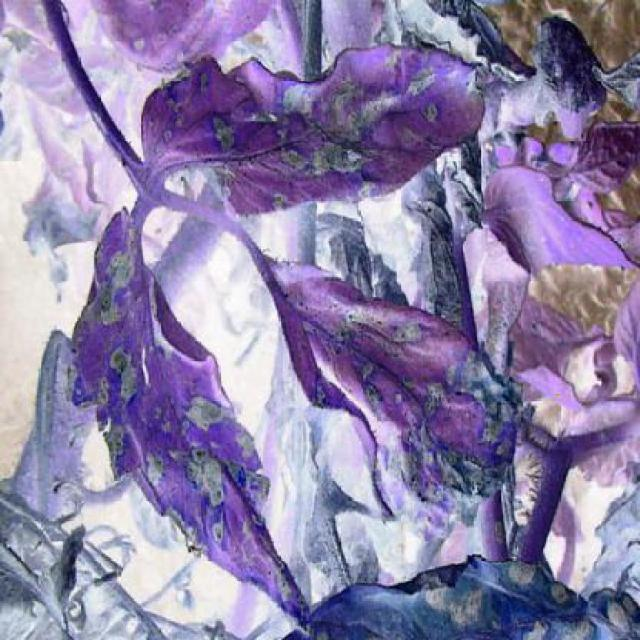Tomato mosaic virus leaf: (64, 200, 316, 632), (266, 255, 511, 517), (136, 49, 496, 216)
